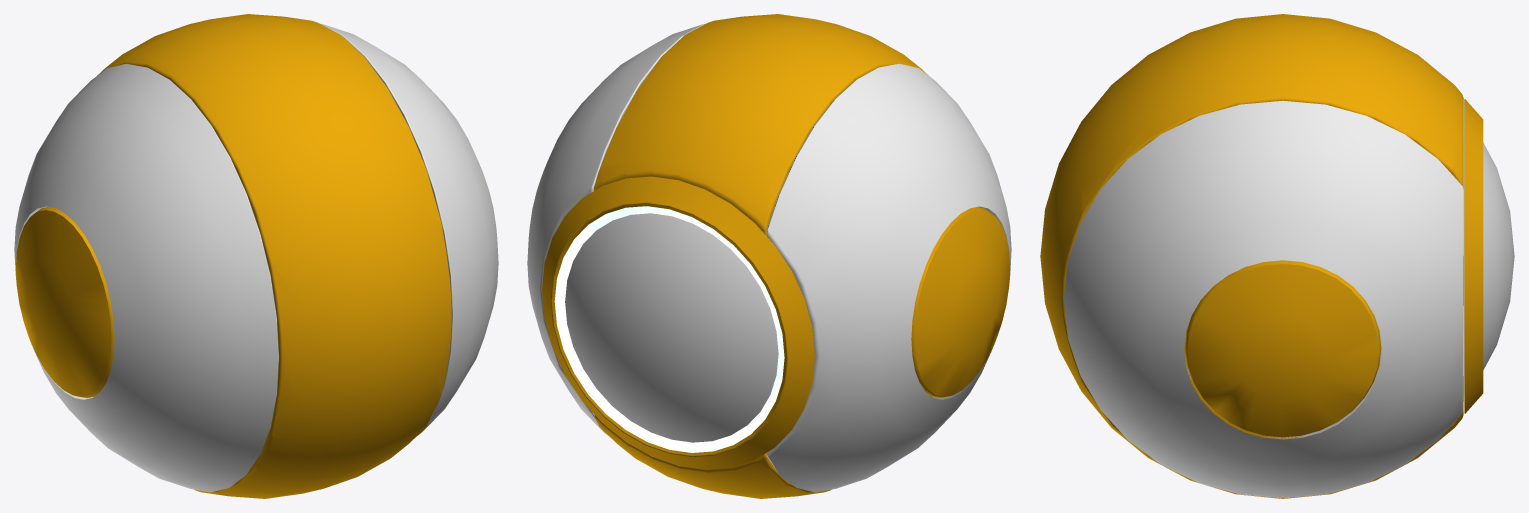
File: RiggableBot.fbx
The picture shows the model from 3 angles, left to right: view 1: azimuth 30°, elevation 25°; view 2: azimuth 150°, elevation 25°; view 3: azimuth 270°, elevation 25°; orthographic projection.
Parts seen in each view (by area): view 1: SideBody.001, CenterBody, SidePanel.001; view 2: SideBody.001, CenterBody, Glass, FrontRing, SidePanel.001, GlassLightRing; view 3: SideBody.001, CenterBody, SidePanel.001, FrontRing, Glass.
Part boxes in pixels (x1,y1,x2,y2): SideBody.001: (14,23,498,492); CenterBody: (97,14,451,498); SidePanel.001: (16,207,114,398); SideBody.001: (527,23,1011,492); CenterBody: (594,14,928,498); Glass: (565,213,778,442); FrontRing: (542,176,814,469); SidePanel.001: (911,207,1009,398); GlassLightRing: (554,206,784,452); SideBody.001: (1063,100,1463,498); CenterBody: (1040,14,1463,498); SidePanel.001: (1185,260,1381,437); FrontRing: (1464,99,1483,413); Glass: (1483,143,1514,369).
Bounding box in the file's own units: 200 × 200 × 195.
